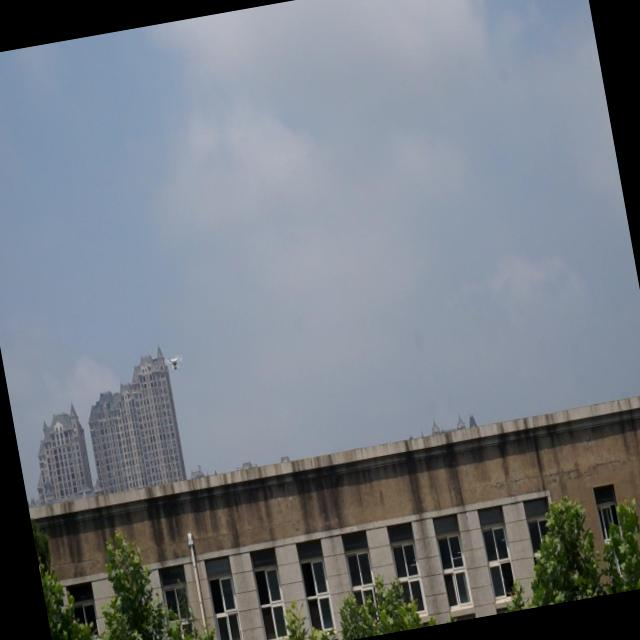drone: (164, 352, 184, 373)
